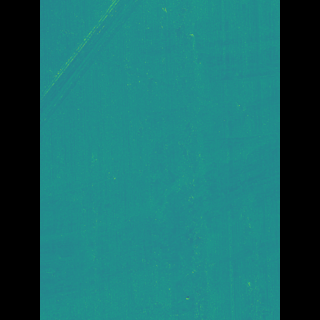Loch: (147, 9, 252, 320), (69, 150, 235, 306), (70, 0, 152, 131)
